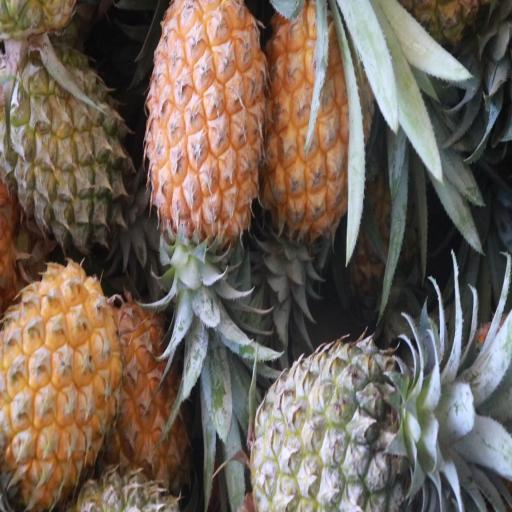------------------------------: (11, 49, 129, 255)
Pineapple - v8 v1: (145, 2, 265, 256), (0, 266, 118, 510), (262, 1, 373, 241)
